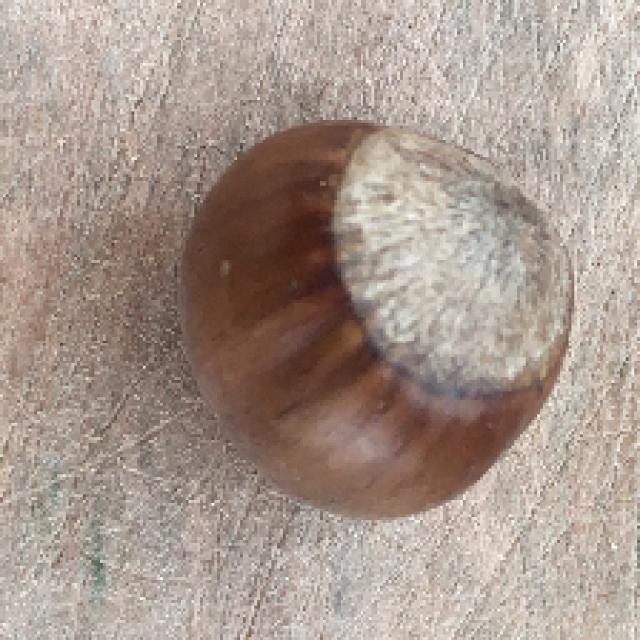qualityHazelnut: (174, 112, 579, 520)
